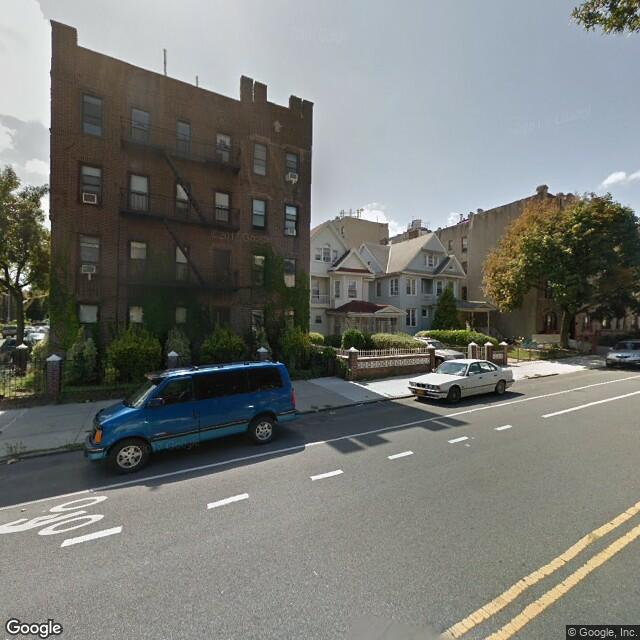litter: (70, 392, 106, 409), (1, 449, 30, 467), (323, 405, 355, 421)
